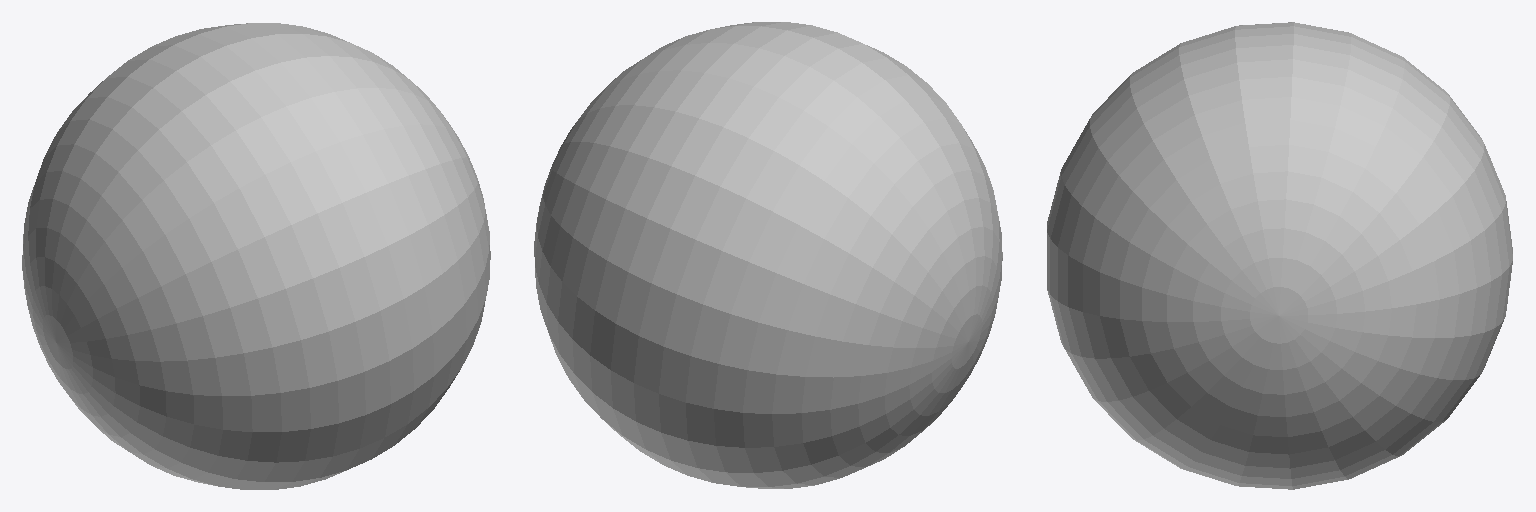
Rendered from CubeWITHAnim0014.obj.
3 renders of one model, left to right at view 1: azimuth 30°, elevation 25°; view 2: azimuth 150°, elevation 25°; view 3: azimuth 270°, elevation 25°, orthographic.
Parts seen in each view (by area): view 1: NEWJumpBall_Sphere; view 2: NEWJumpBall_Sphere; view 3: NEWJumpBall_Sphere.
Part boxes in pixels (bbox=[...]): NEWJumpBall_Sphere: bbox=[22, 23, 490, 489]; NEWJumpBall_Sphere: bbox=[534, 22, 1002, 488]; NEWJumpBall_Sphere: bbox=[1047, 22, 1512, 489].
Bounding box in the file's own units: 2 × 2 × 1.99.